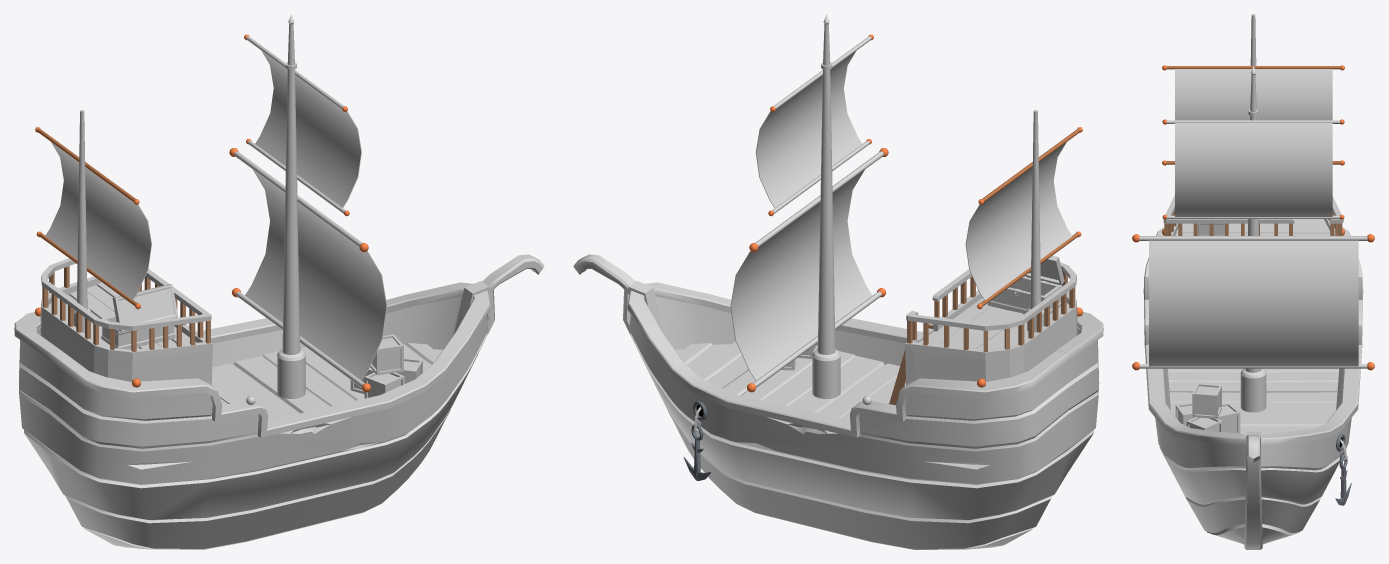
The model's file is Ship.fbx.
The picture shows the model from 3 angles, left to right: view 1: azimuth 30°, elevation 25°; view 2: azimuth 150°, elevation 25°; view 3: azimuth 270°, elevation 25°; orthographic projection. The views are drawn at different scales.
Visible parts, largest first — view 1: Cube, Cylinder.004, Cube.001, Cube.002, Cube.036, Cylinder, Cube.047, Cube.035, Cylinder.001, Cube.040, Cube.046, Cylinder.002 (+1 smaller); view 2: Cube, Cylinder.004, Cube.001, Cube.002, Cube.036, Cylinder, Cube.035, Cylinder.001, Cube.046, Cylinder.002; view 3: Cylinder.004, Cube, Cube.036, Cube.001, Cube.002, Cube.035, Cylinder, Cube.040, Cylinder.002, Cube.039, Cube.038, Cube.043 (+2 smaller).
Part boxes in pixels (x1,y1,x2,y2): Cube: (18,296,488,549); Cylinder.004: (45,36,386,387); Cube.001: (14,282,490,437); Cube.002: (40,258,212,384); Cube.036: (212,343,442,420); Cylinder: (277,14,305,398); Cube.047: (112,284,178,330); Cube.035: (446,254,544,417); Cylinder.001: (73,110,90,332); Cube.040: (370,334,403,375); Cube.046: (101,315,175,349); Cylinder.002: (37,128,137,306); Cube: (629,296,1099,549); Cylinder.004: (730,36,1072,387); Cube.001: (627,282,1103,437); Cube.002: (905,262,1077,384); Cube.036: (675,342,899,420); Cylinder: (812,14,840,398); Cube.035: (573,254,670,415); Cylinder.001: (1027,110,1044,332); Cube.046: (987,276,1061,314); Cylinder.002: (980,128,1080,306); Cylinder.004: (1139,69,1367,368); Cube: (1155,368,1351,544); Cube.036: (1167,368,1339,434); Cube.001: (1143,227,1363,445); Cube.002: (1163,195,1343,235); Cube.035: (1244,431,1262,549); Cylinder: (1240,66,1266,412); Cube.040: (1192,383,1221,418); Cylinder.002: (1166,66,1340,164); Cube.039: (1217,402,1240,433); Cube.038: (1186,417,1222,431); Cube.043: (1335,454,1351,505).
Size of the model in its own units: 1177 by 1149 by 555.
